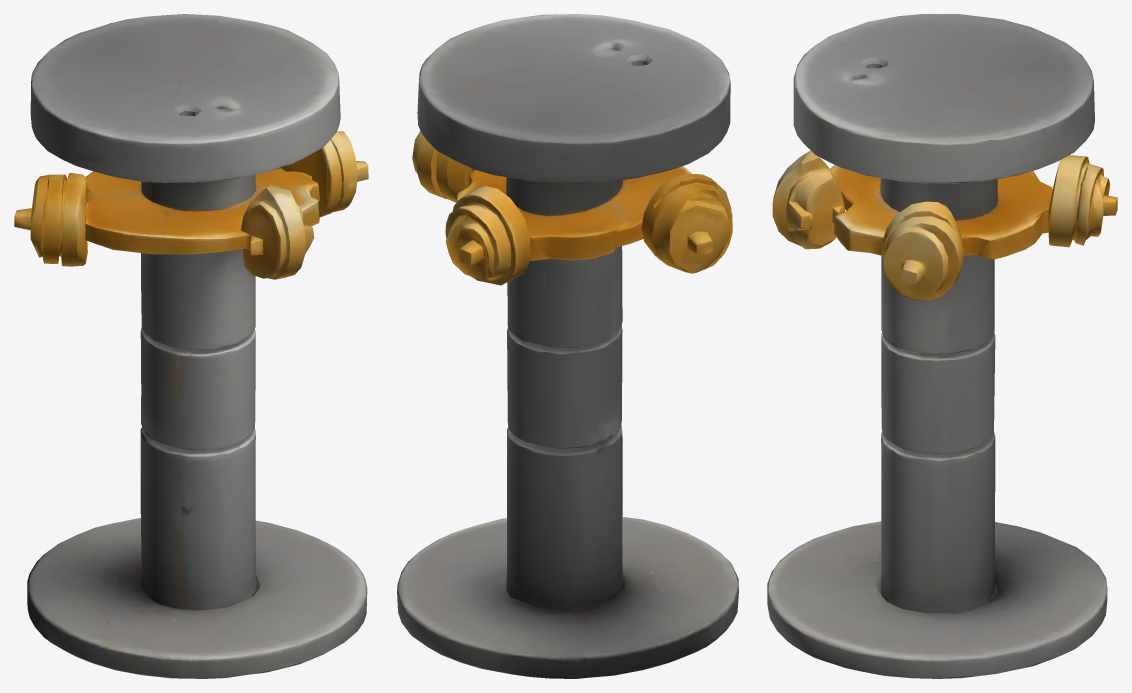
Rendered from m2RotatingPoleV2.glb.
3 views of the same model, side by side, from view 1: azimuth 30°, elevation 25°; view 2: azimuth 150°, elevation 25°; view 3: azimuth 270°, elevation 25° (orthographic).
Visible parts, largest first — view 1: model; view 2: model; view 3: model.
Boxes of the visible parts, left/top/right/bottom form: model: left=14, top=14, right=368, bottom=678; model: left=397, top=14, right=738, bottom=678; model: left=767, top=14, right=1117, bottom=678.
Size of the model in its own units: 1.21 by 1.9 by 1.14.
Materials: 1 (1 with a texture image).
